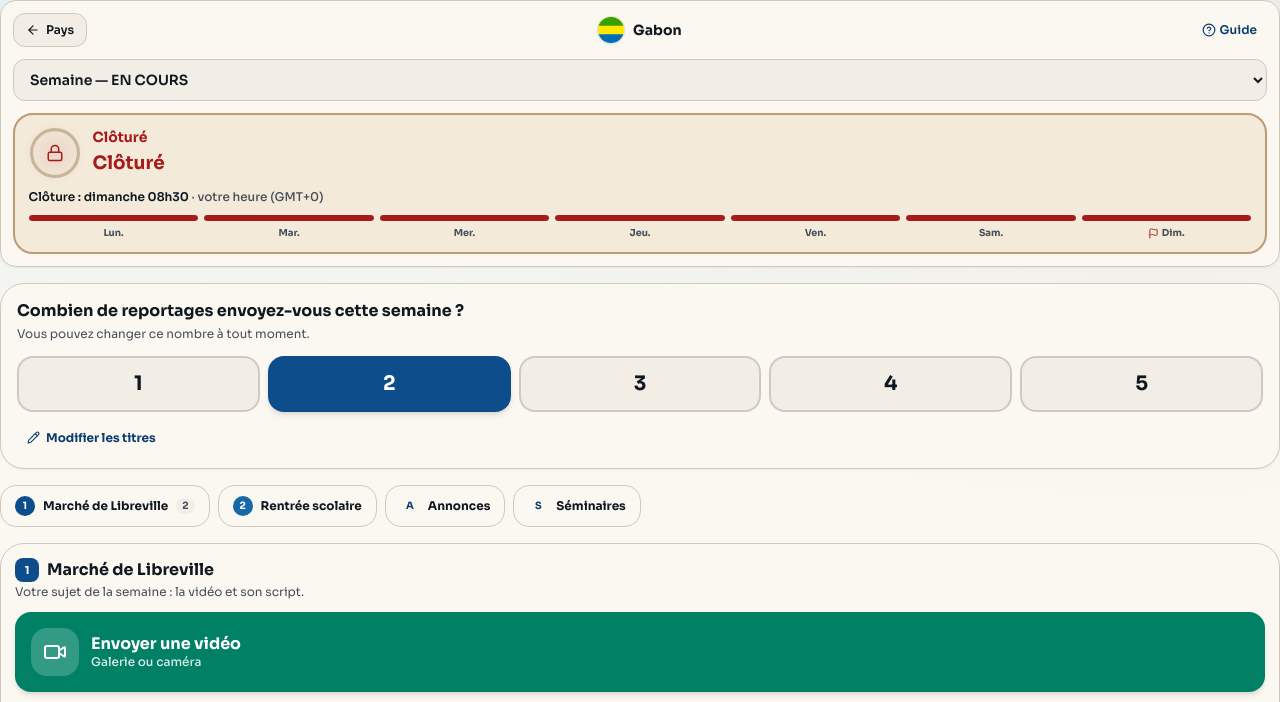
Scenario: choisir le nombre de reportages › dit ce qui sera retiré quand on en choisit moins
Click the button "1": (138, 384) x1=17 y1=356 x2=260 y2=412
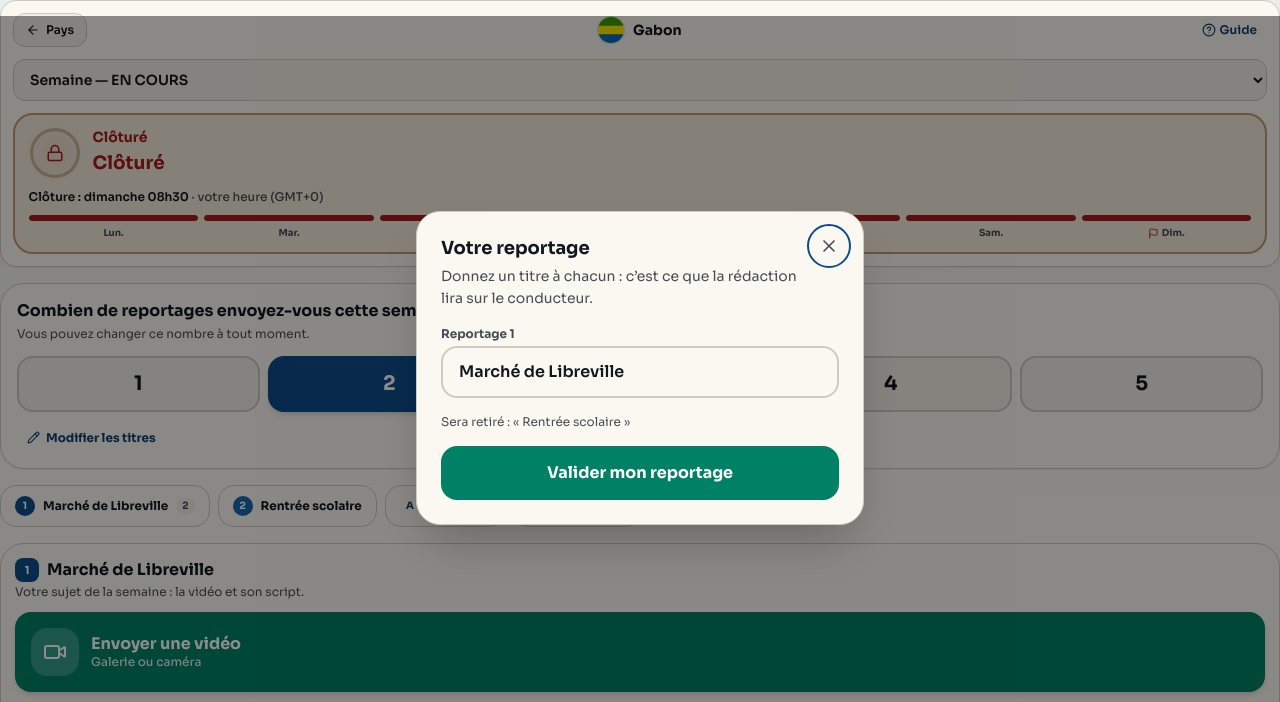
Expected: the text "Sera retiré : « Rentrée scolaire »" is shown, x1=441 y1=414 x2=630 y2=429
